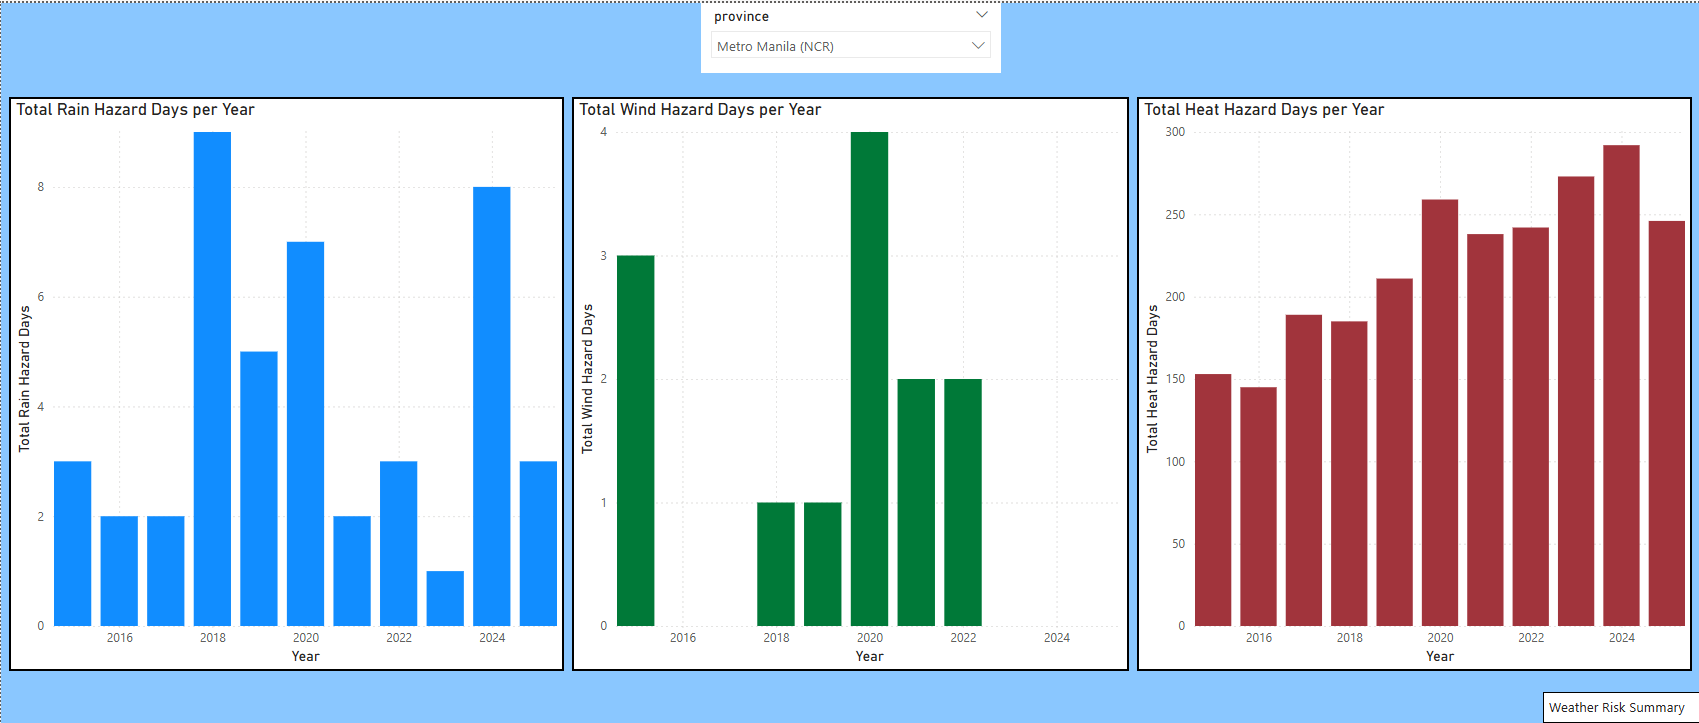

Layout of this report page (visuals, bound fields, positions):
{"tool":"powerbi","page":{"name":"Weather Risk Summary","canvas":[1700,720],"ordinal":4},"visuals":[{"type":"columnChart","title":"Total Rain Hazard Days per Year","fields":{"Category":["mart_weather_severity_summary.year"],"Y":["Sum(mart_weather_severity_summary.total_rain_hazard_days)"]},"box":[7.8,94.4,555.6,573.3],"z":0},{"type":"columnChart","title":"Total Wind Hazard Days per Year","fields":{"Category":["mart_weather_severity_summary.year"],"Y":["Sum(mart_weather_severity_summary.total_wind_hazard_days)"]},"box":[571.1,94.4,556.7,573.3],"z":1000},{"type":"columnChart","title":"Total Heat Hazard Days per Year","fields":{"Category":["mart_weather_severity_summary.year"],"Y":["mart_weather_severity_summary.Significant Heat Days"]},"box":[1135.6,94.4,555.6,573.3],"z":2000},{"type":"slicer","fields":{"Values":["mart_weather_severity_summary.province"]},"box":[700,0,300,70],"z":3000},{"type":"textbox","box":[1542,689,158,31],"z":3001}]}

Visuals, with their boxes in screenshot pixels (x1, y1, x2, y2), scaled from the page's 1700x720 canvas onto the 1699x723 screenshot:
"Total Rain Hazard Days per Year" columnChart: box(8, 95, 563, 670)
"Total Wind Hazard Days per Year" columnChart: box(571, 95, 1127, 670)
"Total Heat Hazard Days per Year" columnChart: box(1135, 95, 1690, 670)
slicer - mart_weather_severity_summary.province: box(700, 0, 999, 70)
textbox: box(1541, 692, 1698, 722)
